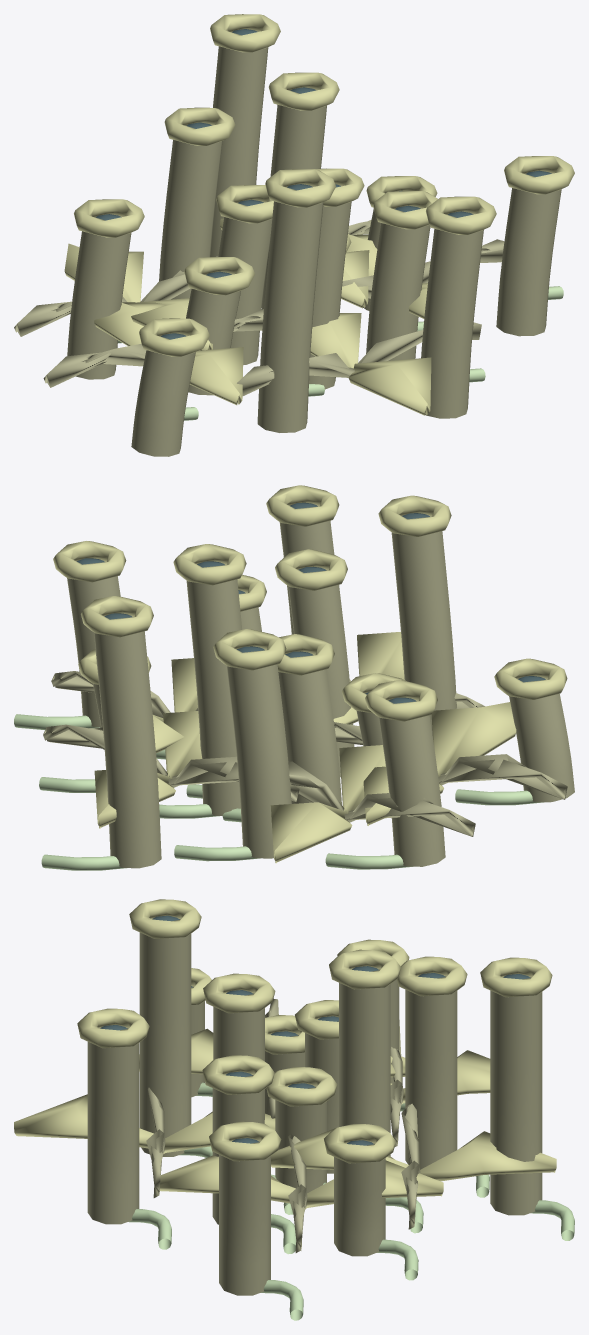
File: bio_thermal_colony_25_far.glb
3 views of the same model, one above another, from view 1: azimuth 30°, elevation 25°; view 2: azimuth 150°, elevation 25°; view 3: azimuth 270°, elevation 25° (orthographic). The views are drawn at different scales.
Parts seen in each view (by area): view 1: Chimney biofilm.007, Chimney biofilm.010, Chimney biofilm.013, Chimney biofilm.006, Chimney biofilm.011, Chimney biofilm.009, Chimney biofilm.005, Low buttress leaf.009, Chimney biofilm.012, Low buttress leaf.017, Chimney biofilm.001, Chimney biofilm.002 (+22 smaller); view 2: Chimney biofilm.011, Chimney biofilm.006, Chimney biofilm.007, Chimney biofilm.003, Chimney biofilm.009, Chimney biofilm.001, Low buttress leaf.005, Low buttress leaf.017, Chimney biofilm.012, Chimney biofilm.002, Low buttress leaf.016, Low buttress leaf.004 (+28 smaller); view 3: Chimney biofilm.011, Chimney biofilm.007, Chimney biofilm.010, Chimney biofilm.006, Chimney biofilm.003, Chimney biofilm.013, Chimney biofilm.008, Low buttress leaf.013, Low buttress leaf.001, Low buttress leaf.009, Chimney biofilm, Chimney biofilm.002 (+30 smaller).
Boxes of the visible parts, x1=… form: Chimney biofilm.007: x1=257, y1=201, x2=323, y2=432; Chimney biofilm.010: x1=421, y1=229, x2=483, y2=418; Chimney biofilm.013: x1=496, y1=188, x2=561, y2=336; Chimney biofilm.006: x1=159, y1=140, x2=222, y2=299; Chimney biofilm.011: x1=210, y1=46, x2=268, y2=256; Chimney biofilm.009: x1=67, y1=231, x2=131, y2=379; Chimney biofilm.005: x1=366, y1=223, x2=430, y2=360; Low buttress leaf.009: x1=310, y1=313, x2=431, y2=415; Chimney biofilm.012: x1=131, y1=350, x2=195, y2=456; Low buttress leaf.017: x1=94, y1=302, x2=243, y2=405; Chimney biofilm.001: x1=218, y1=217, x2=272, y2=364; Chimney biofilm.002: x1=309, y1=201, x2=351, y2=389; Chimney biofilm.011: x1=94, y1=616, x2=161, y2=868; Chimney biofilm.006: x1=226, y1=646, x2=291, y2=858; Chimney biofilm.007: x1=391, y1=531, x2=456, y2=737; Chimney biofilm.003: x1=186, y1=564, x2=242, y2=815; Chimney biofilm.009: x1=379, y1=715, x2=445, y2=866; Chimney biofilm.001: x1=278, y1=669, x2=341, y2=804; Low buttress leaf.005: x1=270, y1=745, x2=385, y2=863; Low buttress leaf.017: x1=363, y1=702, x2=516, y2=825; Chimney biofilm.012: x1=509, y1=678, x2=574, y2=802; Chimney biofilm.002: x1=288, y1=569, x2=354, y2=777; Low buttress leaf.016: x1=334, y1=722, x2=567, y2=799; Low buttress leaf.004: x1=288, y1=761, x2=475, y2=836; Chimney biofilm.011: x1=490, y1=977, x2=542, y2=1215; Chimney biofilm.007: x1=139, y1=919, x2=191, y2=1156; Chimney biofilm.010: x1=87, y1=1028, x2=139, y2=1224; Chimney biofilm.006: x1=405, y1=976, x2=457, y2=1169; Chimney biofilm.003: x1=339, y1=969, x2=390, y2=1156; Chimney biofilm.013: x1=219, y1=1141, x2=270, y2=1295; Chimney biofilm.008: x1=334, y1=1143, x2=385, y2=1256; Low buttress leaf.013: x1=271, y1=1129, x2=556, y2=1181; Low buttress leaf.001: x1=160, y1=1155, x2=443, y2=1208; Low buttress leaf.009: x1=14, y1=1094, x2=275, y2=1153; Chimney biofilm: x1=275, y1=1086, x2=326, y2=1193; Chimney biofilm.002: x1=213, y1=993, x2=264, y2=1119.
Size of the model in its own units: 2.38 by 1.07 by 2.16.
